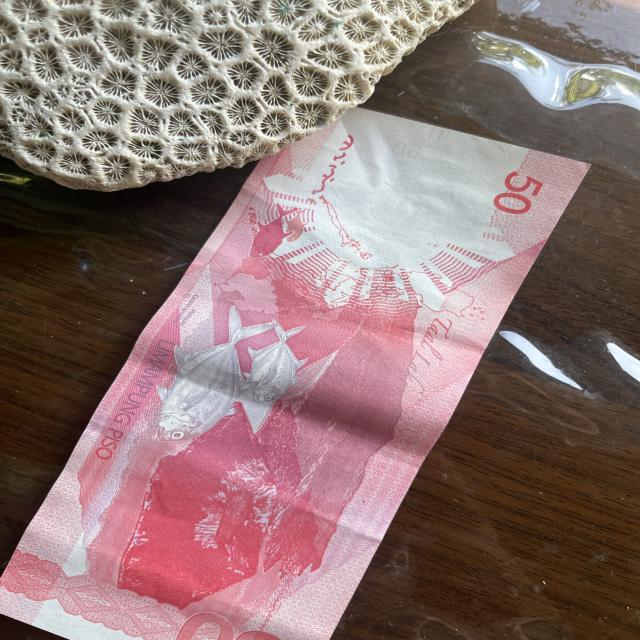50_maliputo: (160, 301, 326, 446)
50_maliputo_watermark: (242, 199, 312, 266)
value_watermark: (382, 131, 438, 167)
watermark: (324, 131, 479, 242)
